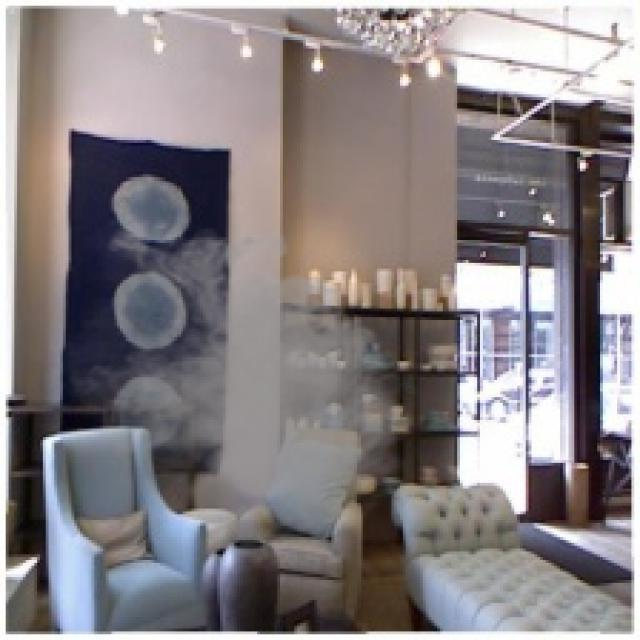Smoke: (46, 208, 426, 568)
